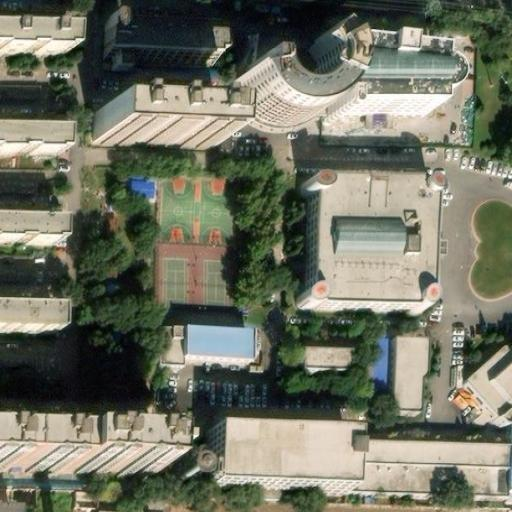building: (296, 183, 424, 317), (352, 437, 511, 496), (209, 426, 354, 489), (229, 43, 337, 127), (321, 49, 435, 120), (104, 11, 224, 71), (250, 37, 317, 100), (460, 341, 511, 422), (91, 112, 215, 144), (396, 336, 430, 412), (188, 324, 257, 355), (0, 308, 57, 337), (0, 126, 61, 152), (0, 219, 60, 243), (365, 336, 390, 389), (305, 347, 355, 367), (162, 325, 188, 363)
